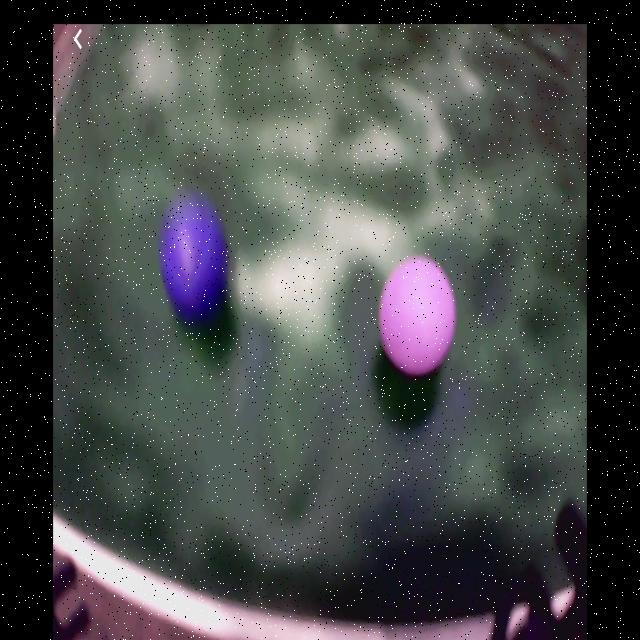ball: (379, 255, 456, 378), (160, 193, 229, 321)
